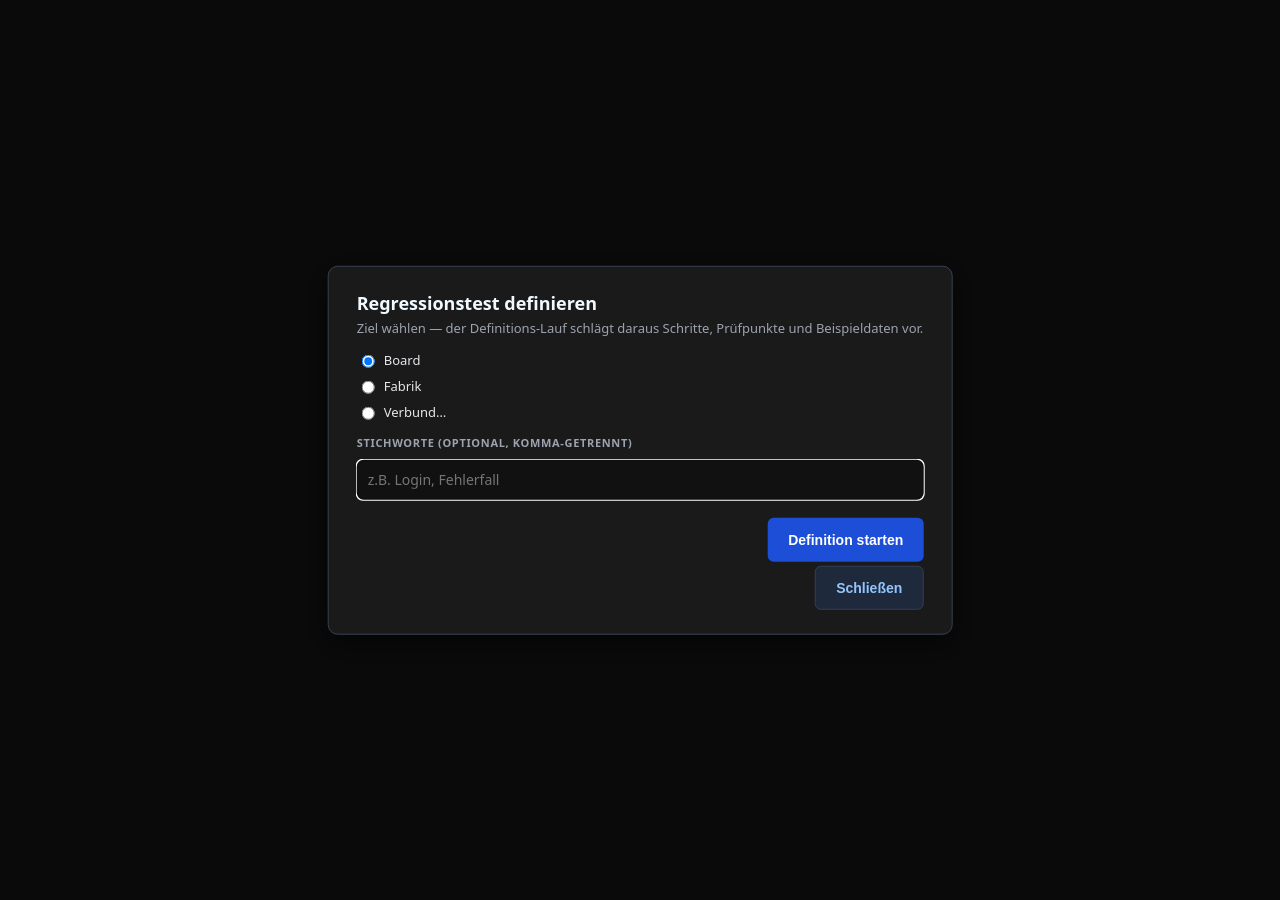
regression-define-dialog AC6 — Ziel-Auswahl (Bereich/Verbund) + Start › Start-Fehler (409) bleibt im target-Zustand mit Inline-Fehler, Eingaben erhalten
Click the button "Definition starten".
click(846, 539)  # box [768,517,923,561]
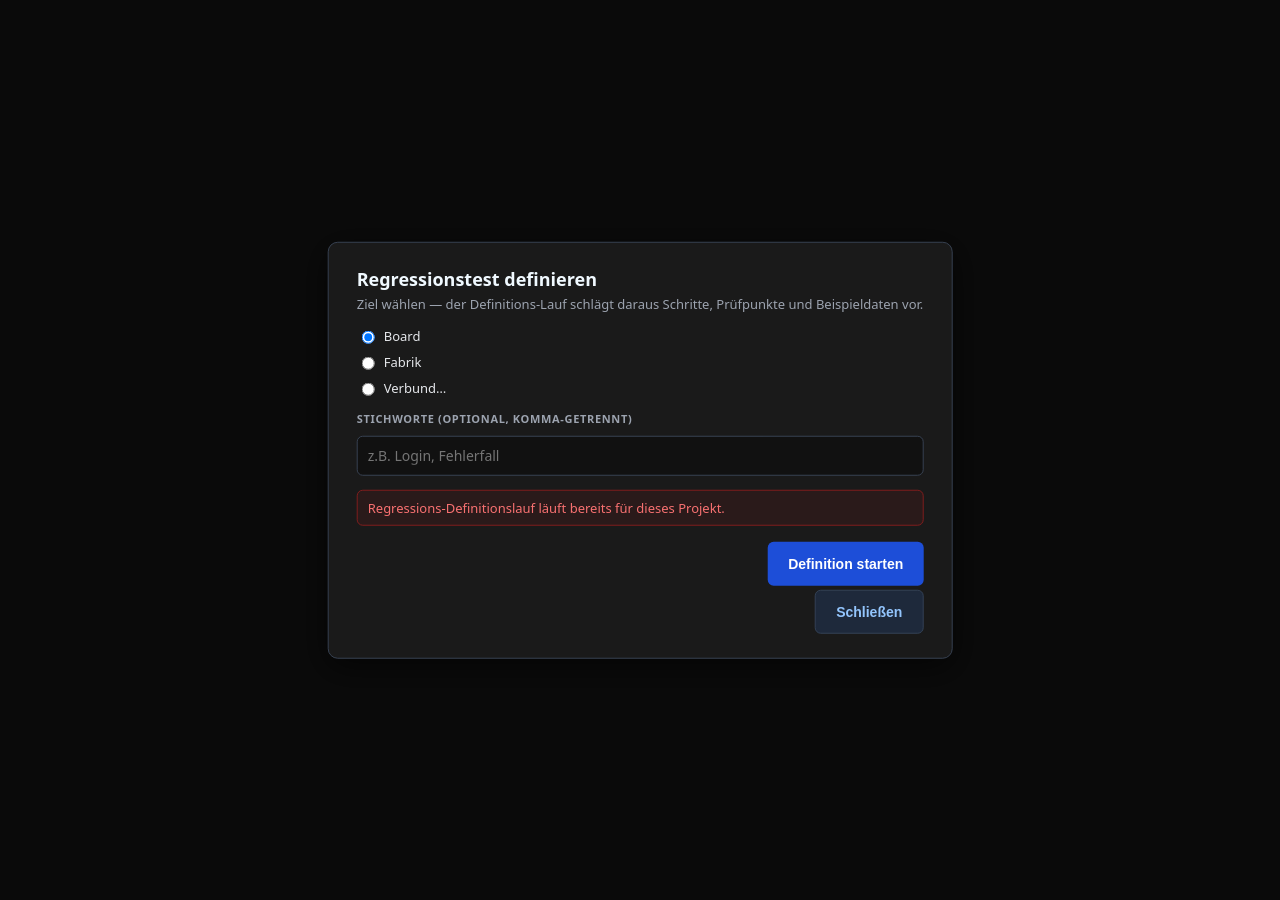
Now the text "läuft bereits" is shown, box [368,498,725,516]
